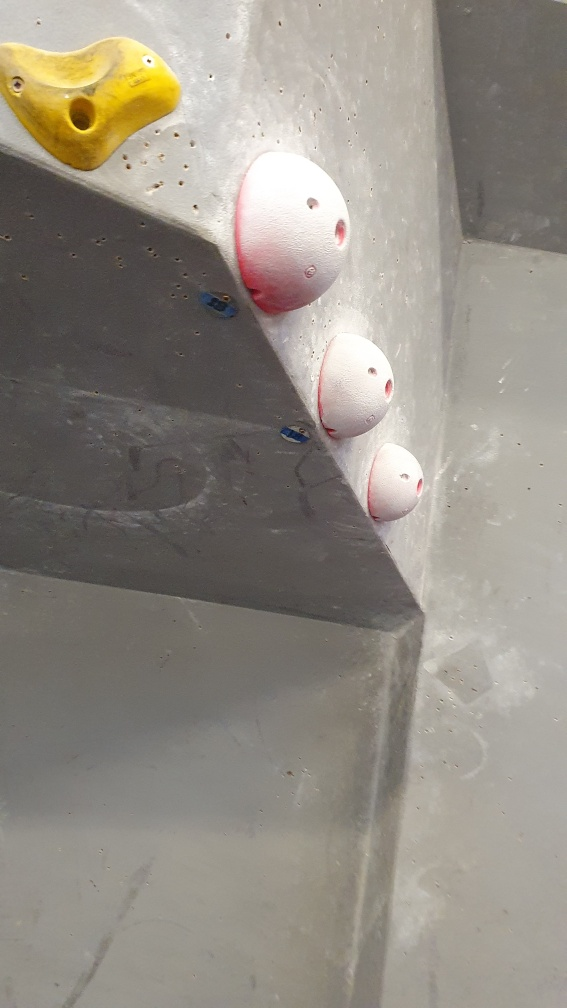Hand Start: (195, 286, 240, 325), (278, 419, 312, 453)
Sloper: (230, 145, 353, 319), (314, 327, 400, 446), (366, 442, 427, 527)
